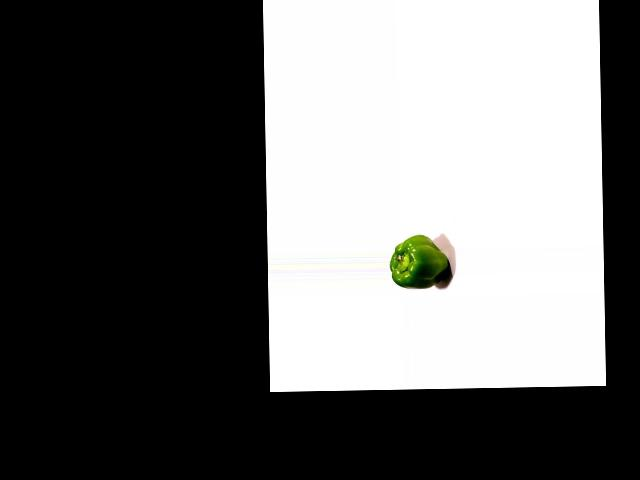bell_pepper: (389, 232, 451, 290)
